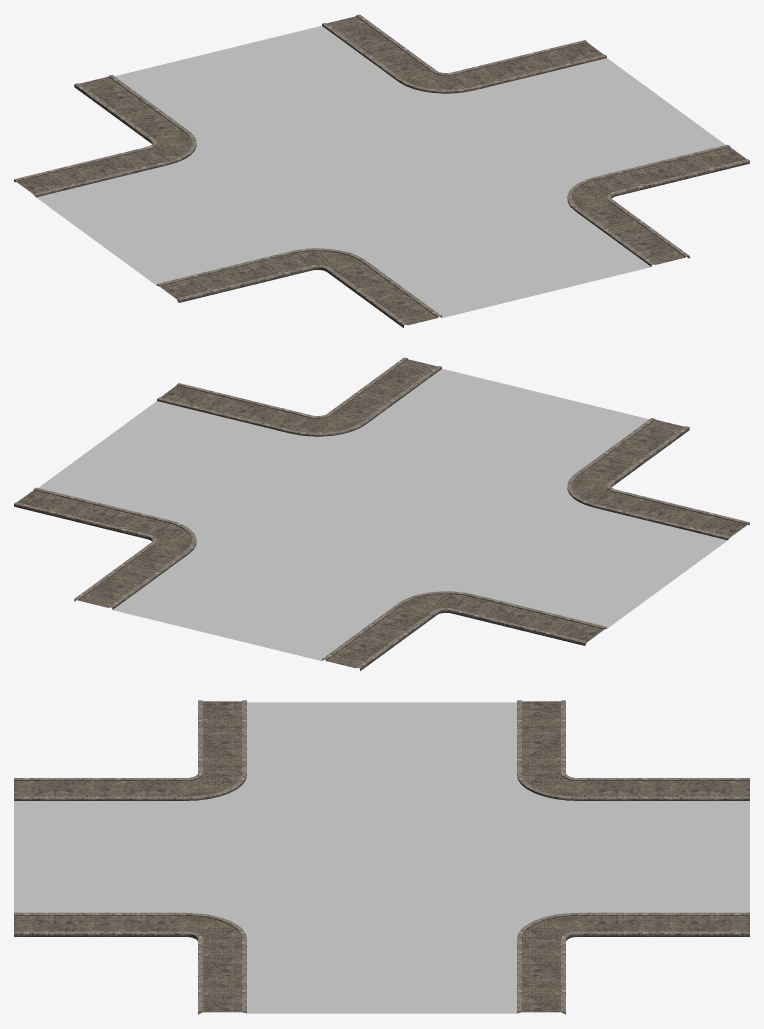
Rendered from Road4.fbx.
The picture shows the model from 3 angles, top to bottom: view 1: azimuth 30°, elevation 25°; view 2: azimuth 150°, elevation 25°; view 3: azimuth 270°, elevation 25°; orthographic projection. The views are drawn at different scales.
Visible parts, largest first — view 1: obj_polySurface32; view 2: obj_polySurface32; view 3: obj_polySurface32.
Part boxes in pixels (x1,y1,x2,y2): obj_polySurface32: (14,14,749,327); obj_polySurface32: (14,357,749,670); obj_polySurface32: (14,700,749,1014).
Bounding box in the file's own units: 30 × 0.1527 × 30.
